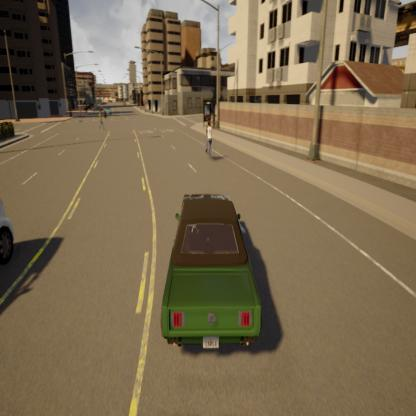Cars: (154, 182, 270, 366), (0, 179, 20, 273), (104, 102, 112, 116)
Pedestrian: (94, 106, 107, 134)
